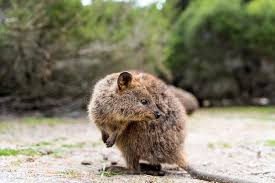quokka: (76, 51, 217, 183)
